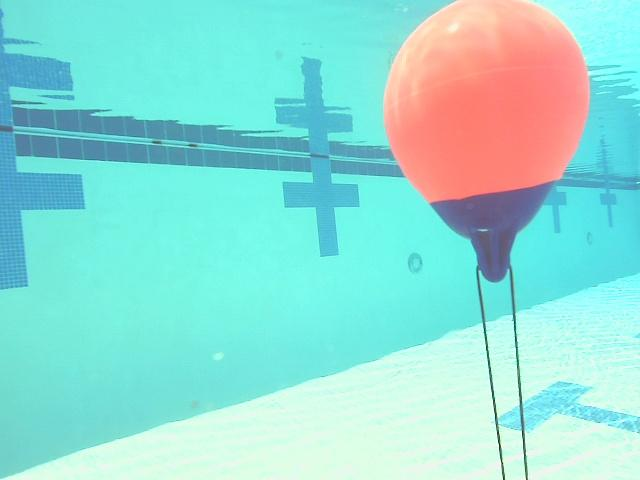buoy: (384, 0, 590, 284)
